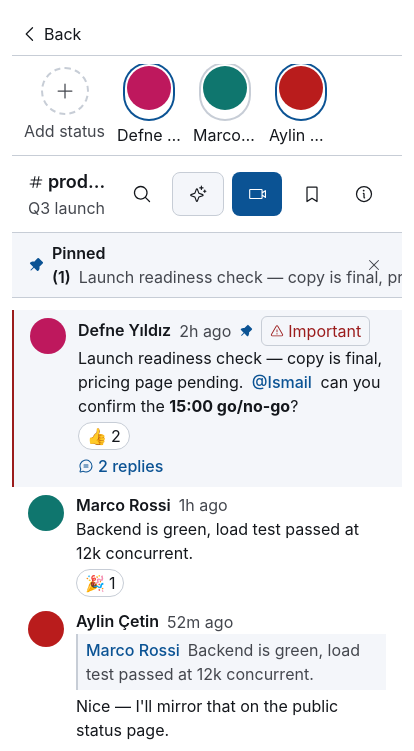
ChannelHeader — mobile search overlay (P1-F) › toggle button reveals a full-width search input
Click the button named "Search messages". click: point(142, 194)
box: [120, 172, 164, 216]
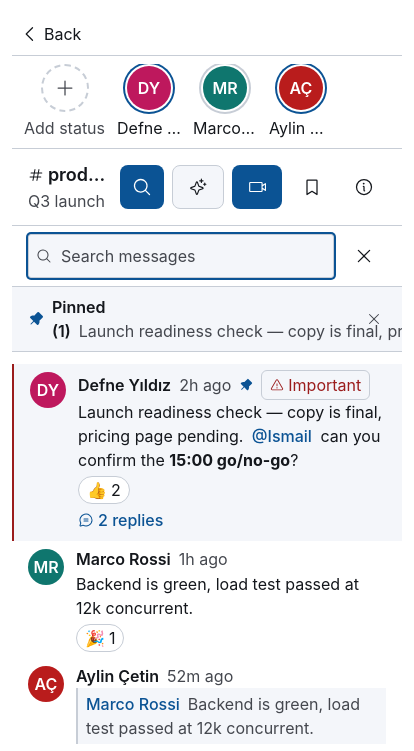
Expected: the number of fields labelled "Search messages" is 3
